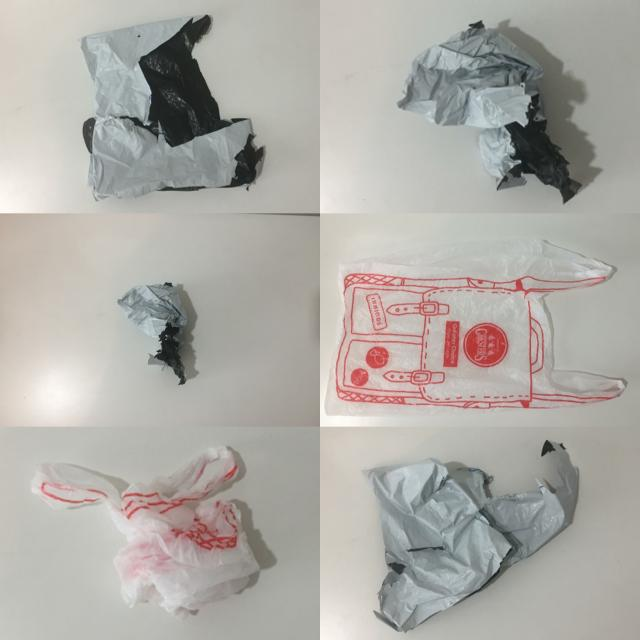Single-layer Plastic: (325, 240, 625, 415), (364, 441, 579, 631), (31, 446, 259, 616), (81, 16, 263, 199), (398, 21, 580, 202), (118, 282, 188, 383)
